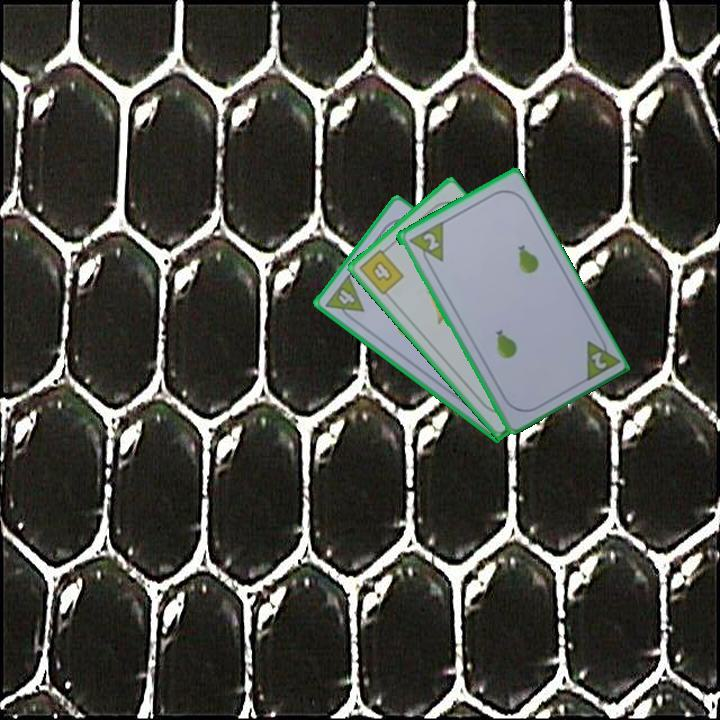2p: (419, 229, 442, 253), (587, 348, 609, 372)
4b: (355, 243, 407, 298)
4p: (322, 271, 367, 326)
